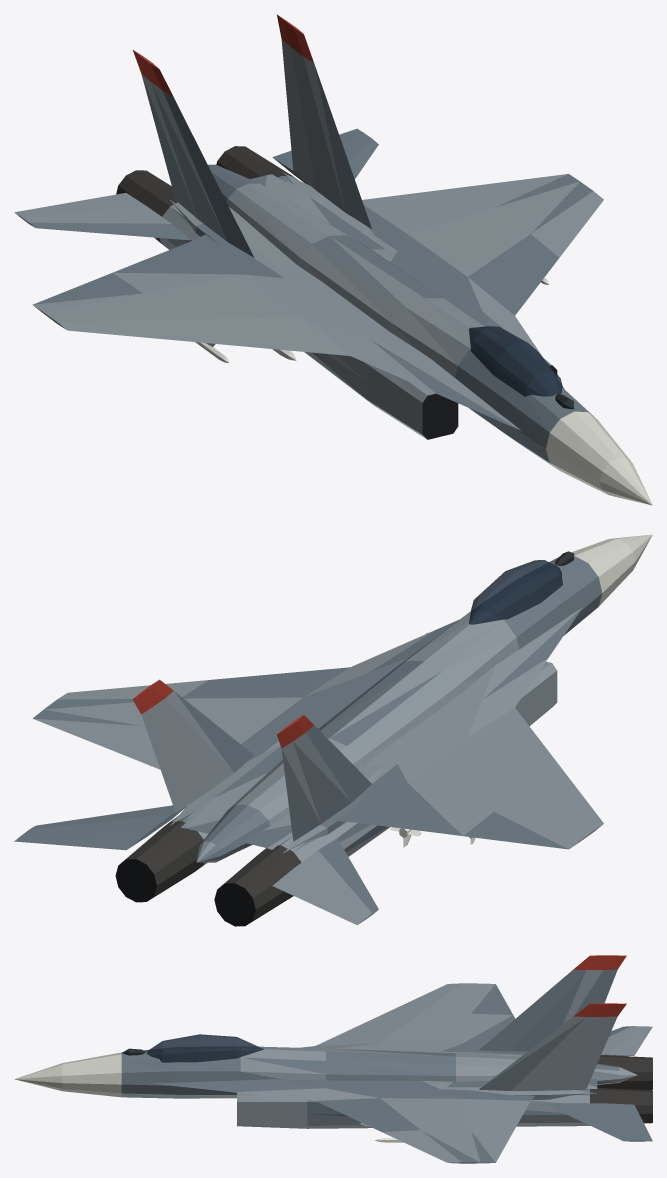
3 views of the same model, one above another, from view 1: azimuth 30°, elevation 25°; view 2: azimuth 150°, elevation 25°; view 3: azimuth 270°, elevation 25° (orthographic). The views are drawn at different scales.
Visible parts, largest first — view 1: airframe, canopy; view 2: airframe, canopy; view 3: airframe, canopy.
Boxes of the visible parts, x1,y1,x2,y2 form: airframe: (14, 14, 652, 505); canopy: (469, 326, 562, 396); airframe: (14, 534, 652, 926); canopy: (469, 560, 562, 624); airframe: (14, 955, 652, 1163); canopy: (147, 1034, 263, 1062).
Size of the model in its own units: 11.4 by 3.84 by 17.2.
